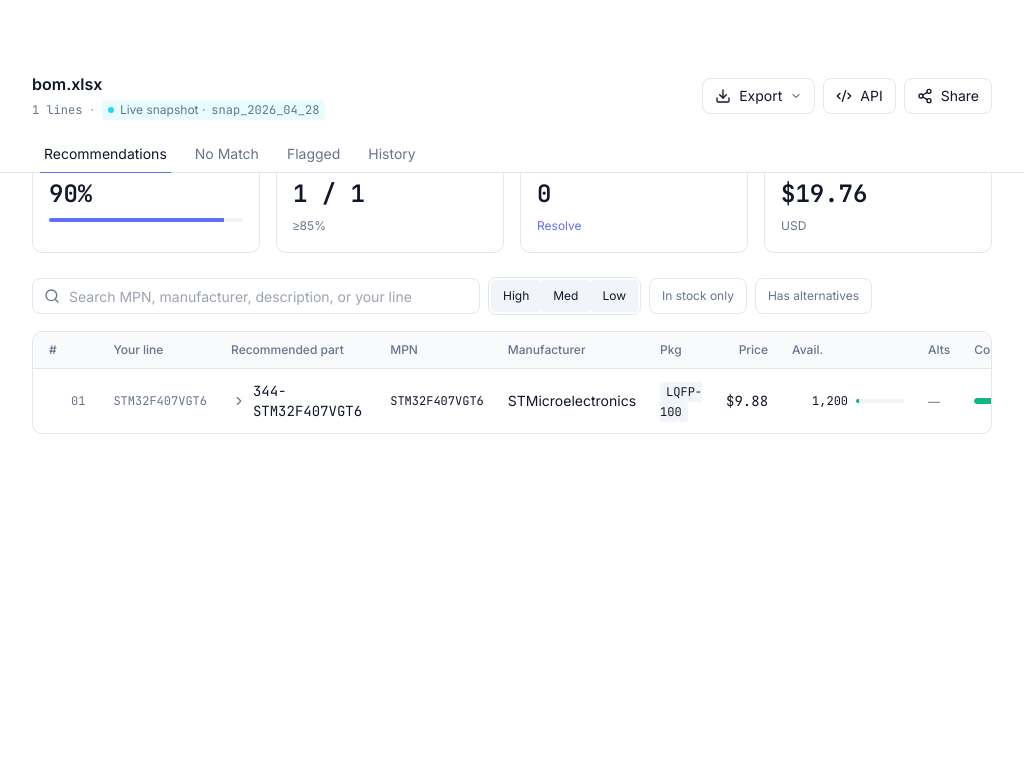
Test: lifecycle display in the drawer › shows a non-active lifecycle with its real value and a non-green badge
Open the drawer by clicking the recommended-part cell.
Click the text "344-STM32F407VGT6" at point(310, 401), box [253,381,366,421]
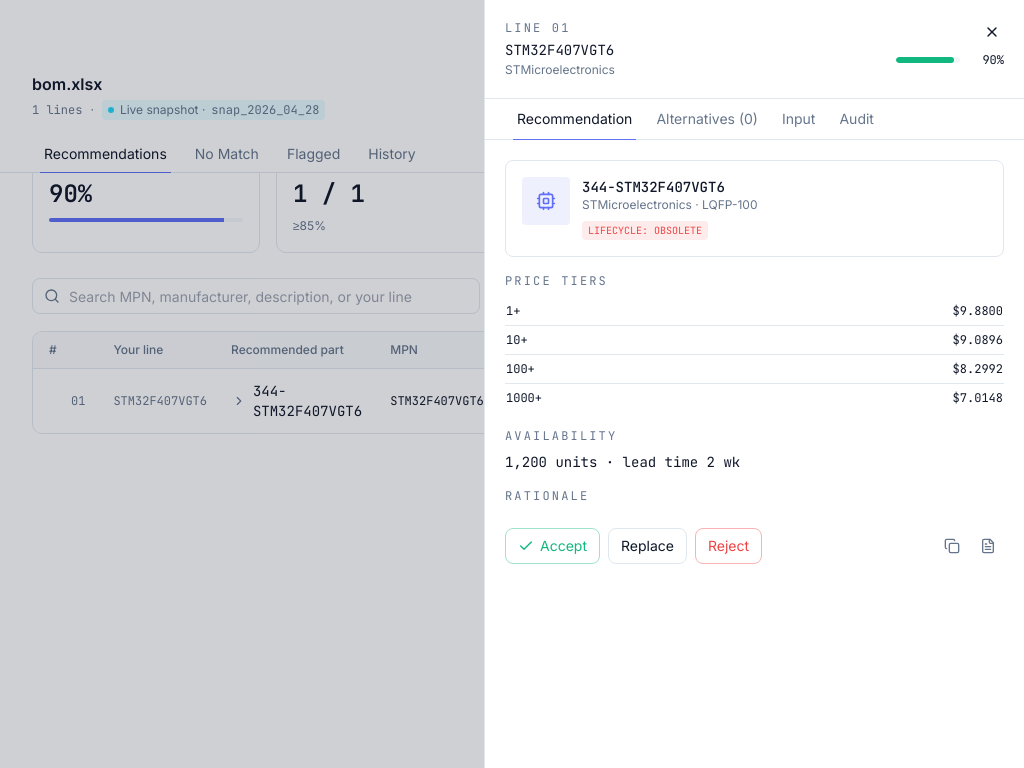
Result: the text "Lifecycle: obsolete" is shown at [582,221,708,240]
